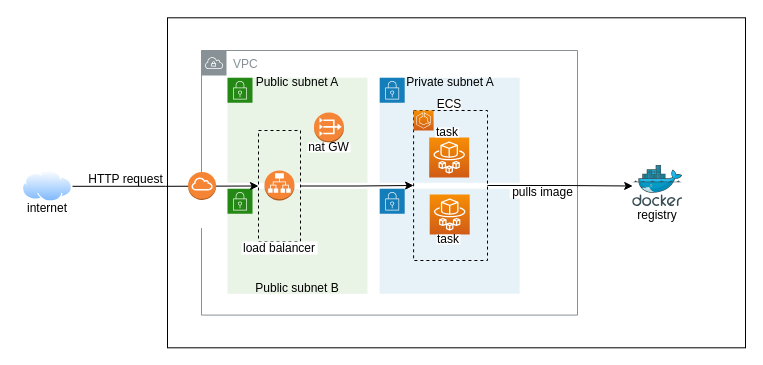
Some shapes in this 763 by 365 pixel diagram are drawn without their labels. Each missing label, with the box of its shape:
internet GW: (180, 200, 223, 228)
Private subnet B: (379, 188, 520, 294)
